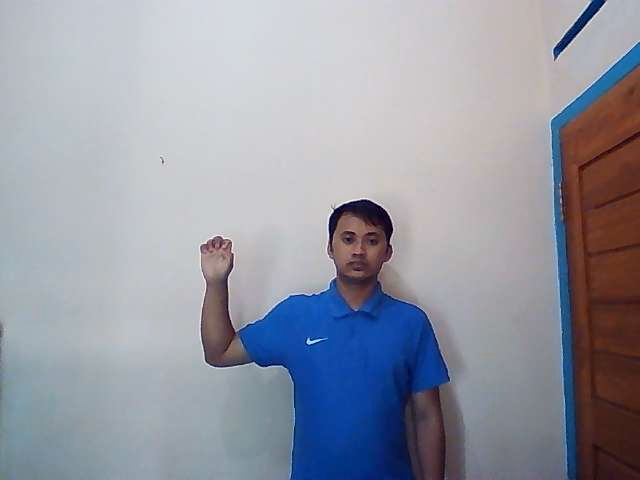E: (199, 234, 236, 284)
